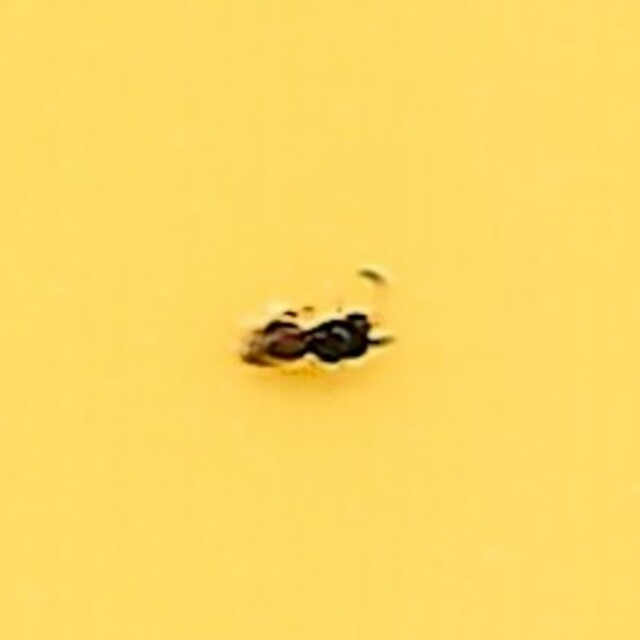Hymenoptera: (237, 262, 403, 378)
